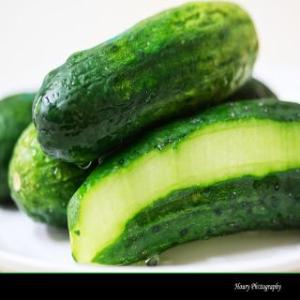cucumber: (67, 102, 299, 264), (32, 0, 260, 162)
